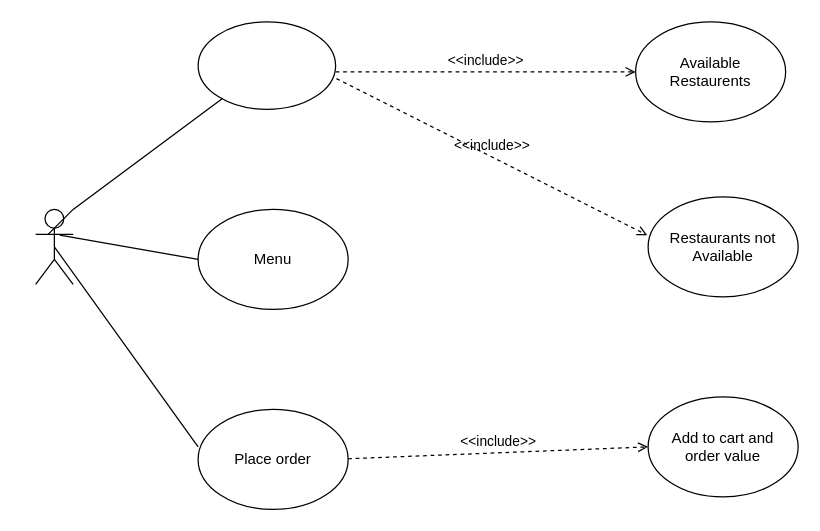
The diagram is 820 pixels wide and 531 high, and some of its shapes have lost their labels. The shapes that lost their labels are listed below. From the top down, each one's centre as x and y in pixels, then its label:
At point (266, 65): "search restaurent".
At point (53, 246): "Customer".
